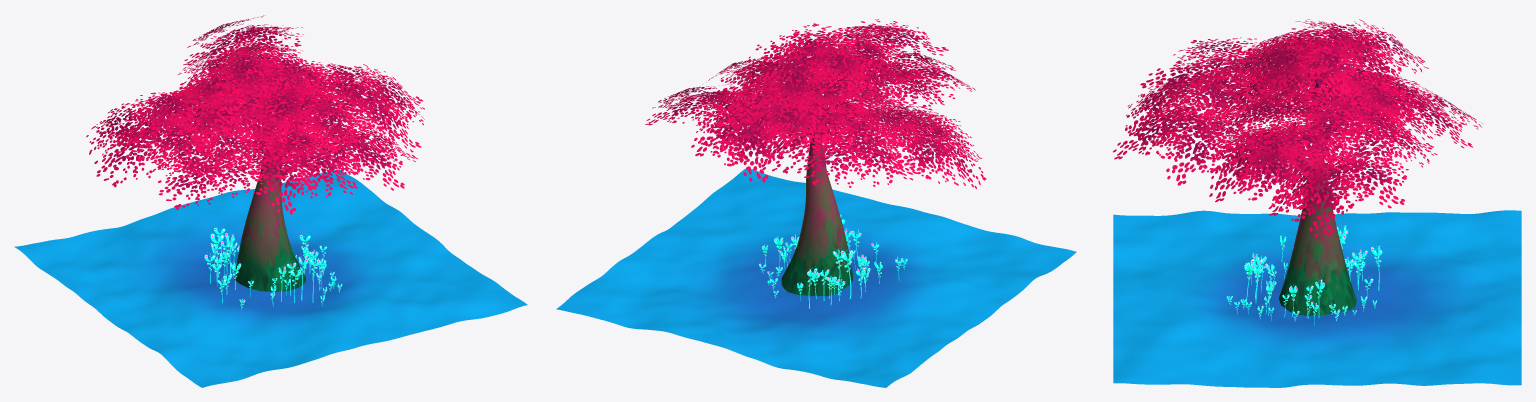
Rendered from arbolprinicpal.fbx.
3 renders of one model, left to right at view 1: azimuth 30°, elevation 25°; view 2: azimuth 150°, elevation 25°; view 3: azimuth 270°, elevation 25°, orthographic. The views are drawn at different scales.
Parts seen in each view (by area): view 1: Plane_140, Plane_084, Plane_002_4_0, Plane_164; view 2: Plane_140, Plane_084, Plane_002_4_0, Plane_164; view 3: Plane_140, Plane_084, Plane_002_4_0, Plane_164.
Part boxes in pixels (x1,y1,x2,y2): Plane_140: (14,169,527,387); Plane_084: (86,15,424,214); Plane_002_4_0: (234,68,305,291); Plane_164: (204,225,342,309); Plane_140: (556,168,1076,387); Plane_084: (645,19,986,188); Plane_002_4_0: (781,68,853,296); Plane_164: (759,214,907,308); Plane_140: (1113,210,1521,387); Plane_084: (1113,19,1482,237); Plane_002_4_0: (1279,44,1356,315); Plane_164: (1226,223,1382,325).
Bounding box in the file's own units: 382 × 300 × 378.
Materials: 4 (4 with a texture image).
